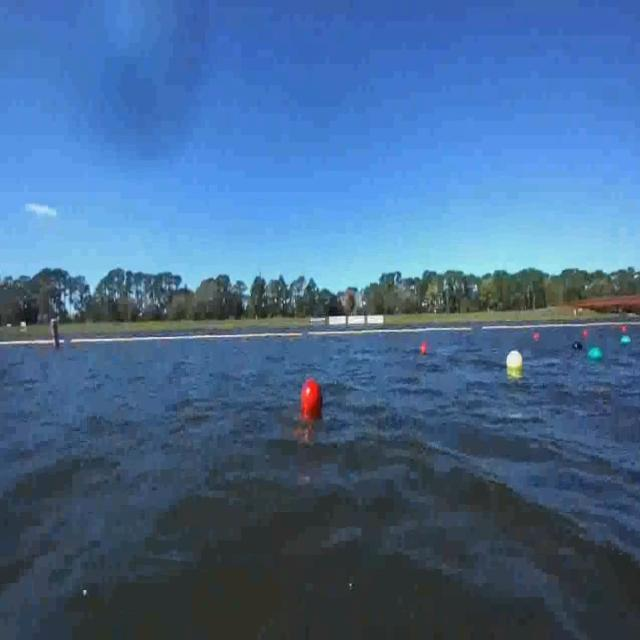black-buoy: (574, 340, 582, 349)
green-buoy: (586, 348, 601, 363)
red-buoy: (300, 378, 319, 411)
yellow-buoy: (505, 350, 522, 371)
